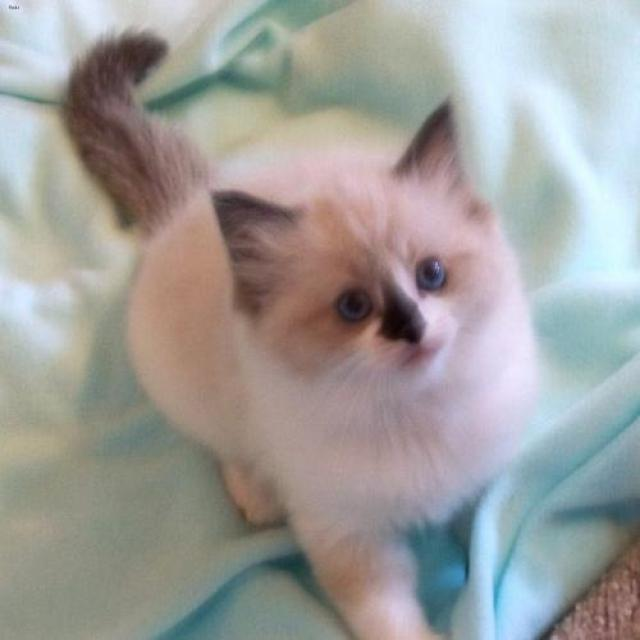cat: (63, 29, 537, 640)
